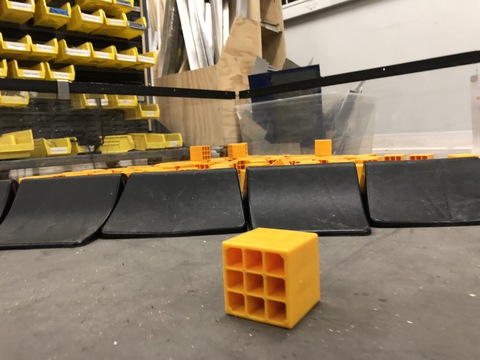block: (190, 230, 336, 342)
